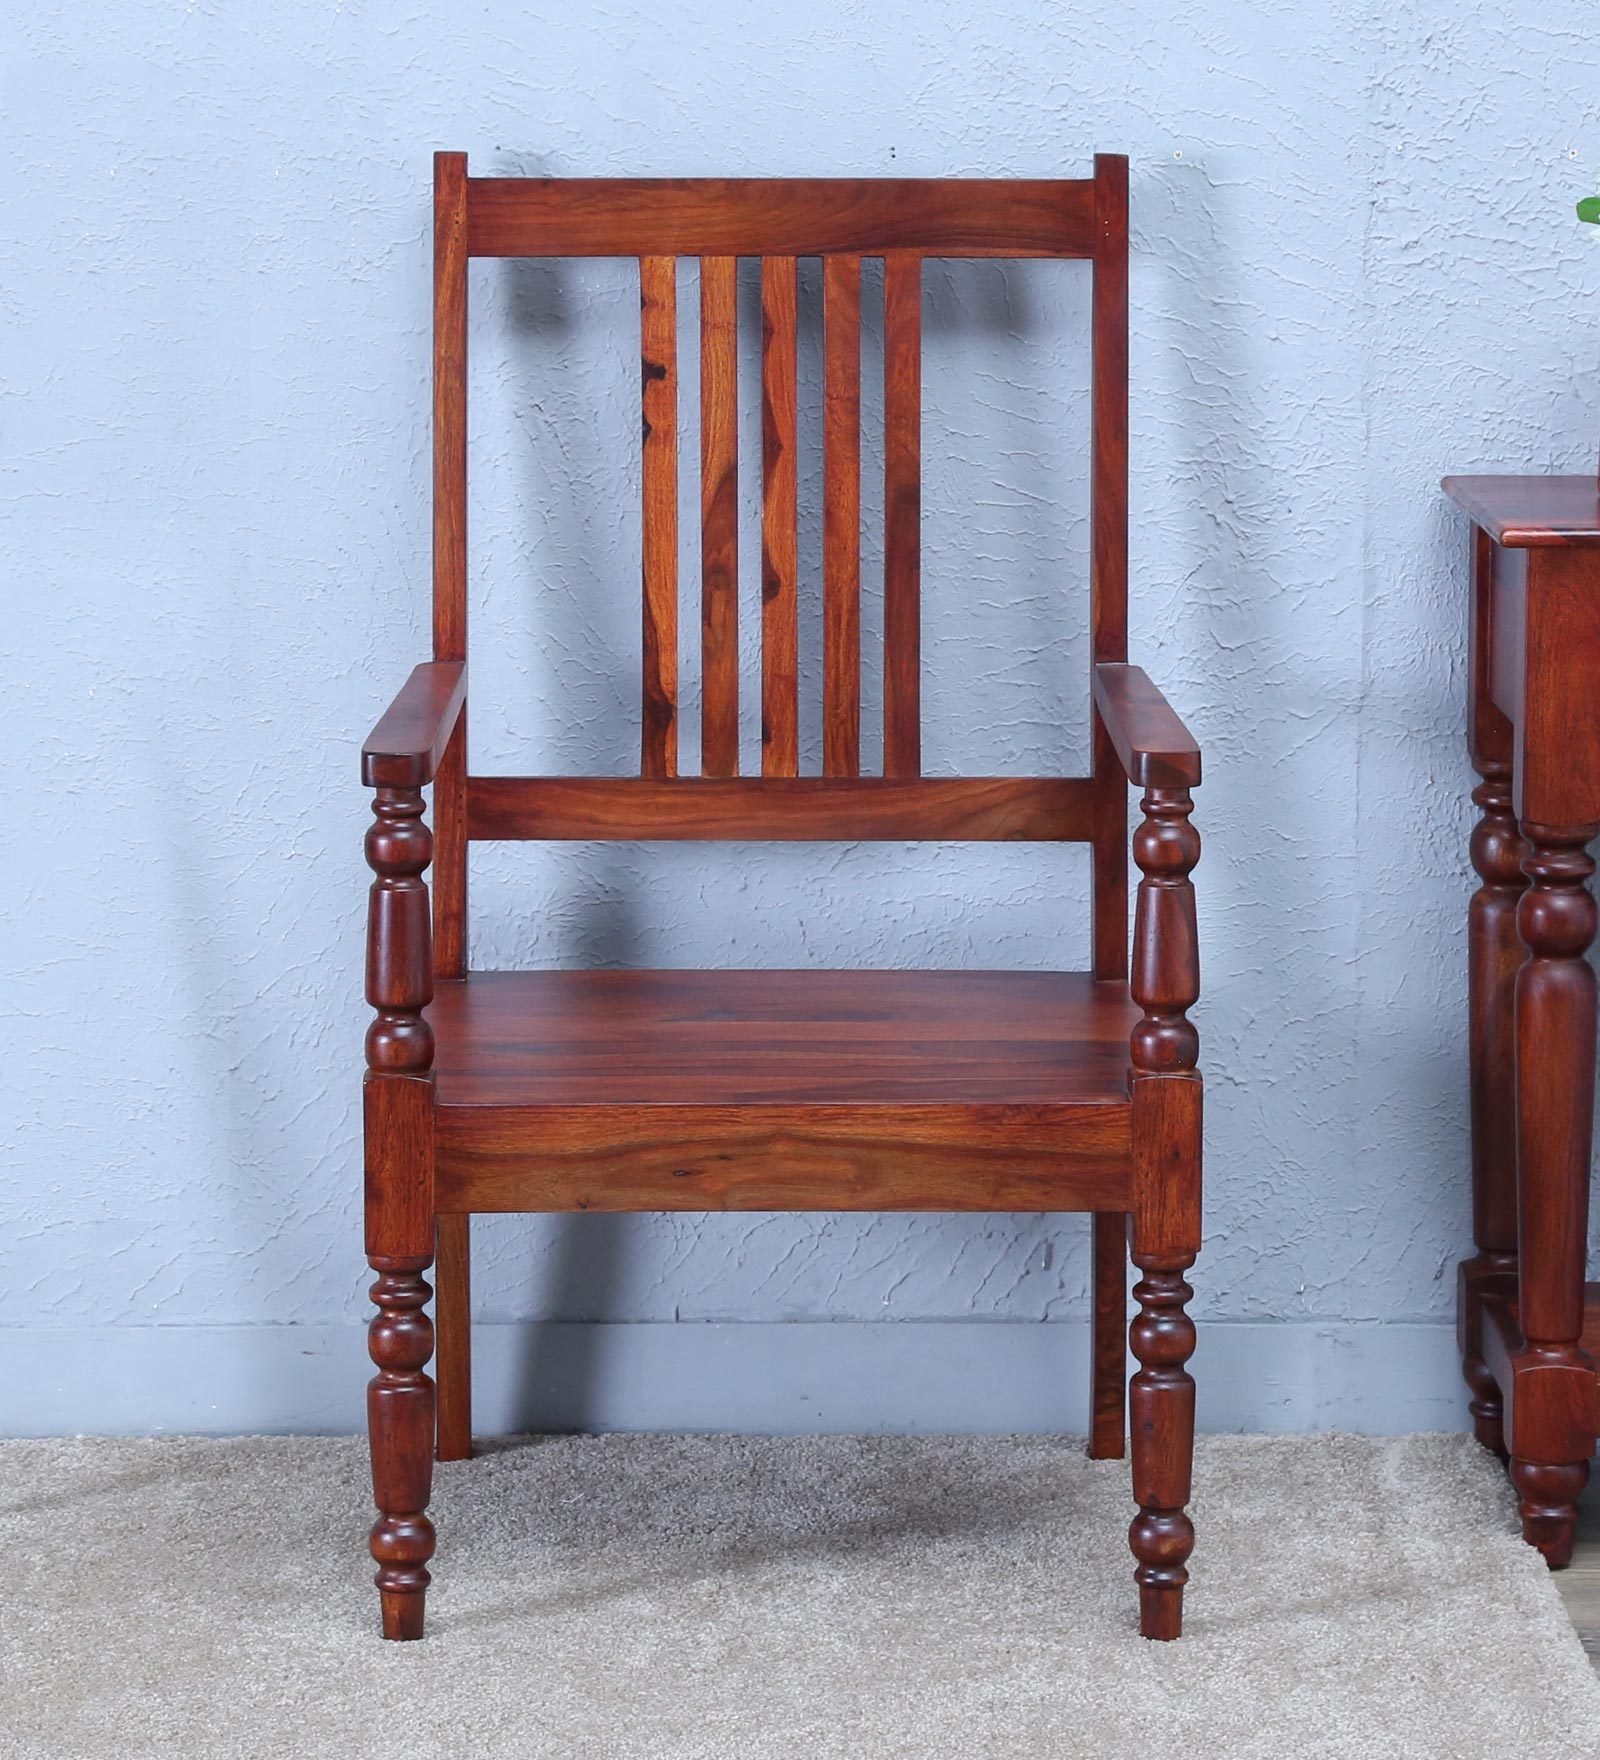Harleston Arm Chair in Honey Oak Finish by Amberville: (323, 126, 1223, 1682)
